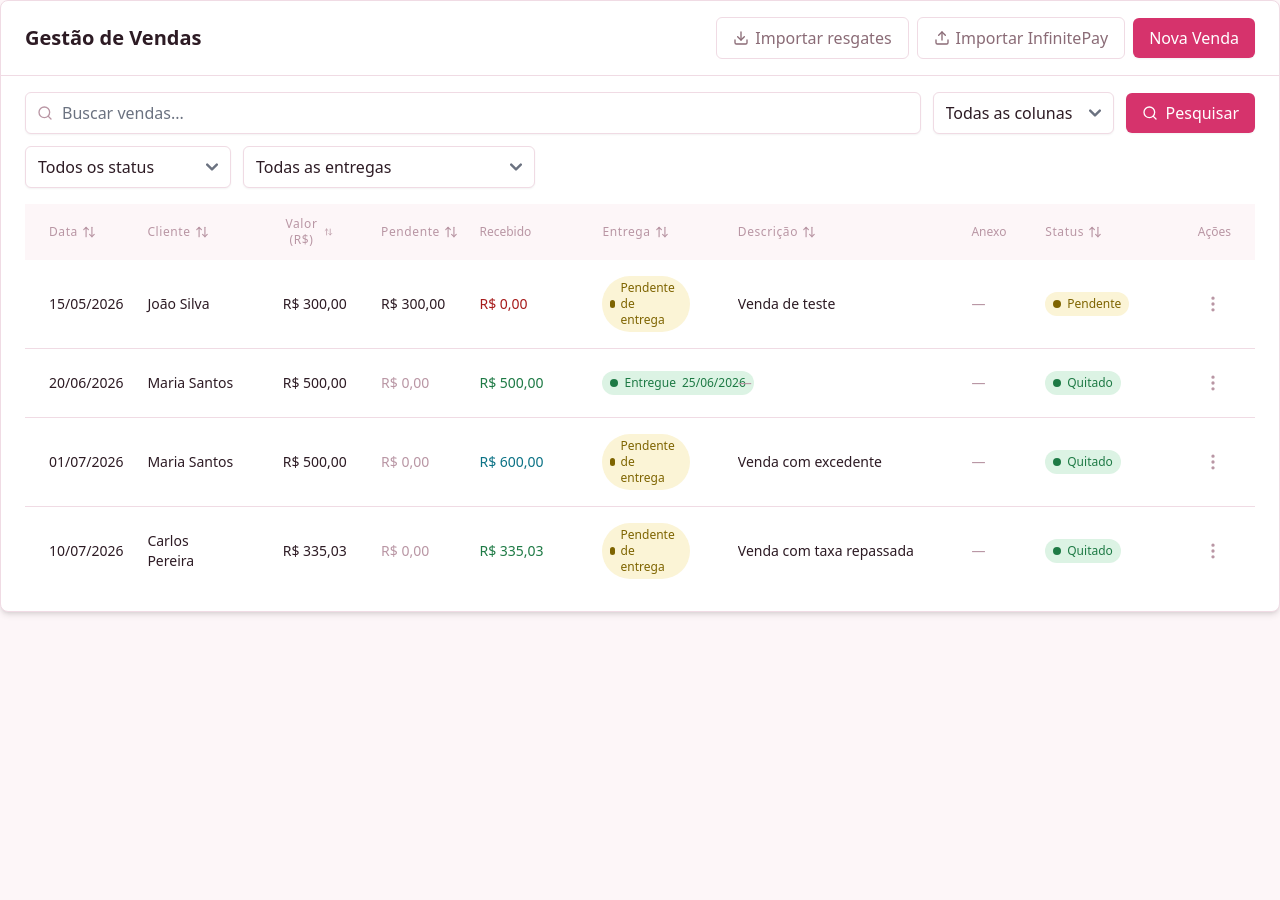
it: SalesPage › Sales List › should show "Desmarcar entrega" for delivered sales
Click the button named "Ações da venda" in the row of "20/06/2026" at (1213, 383), box [1195,365,1231,401]
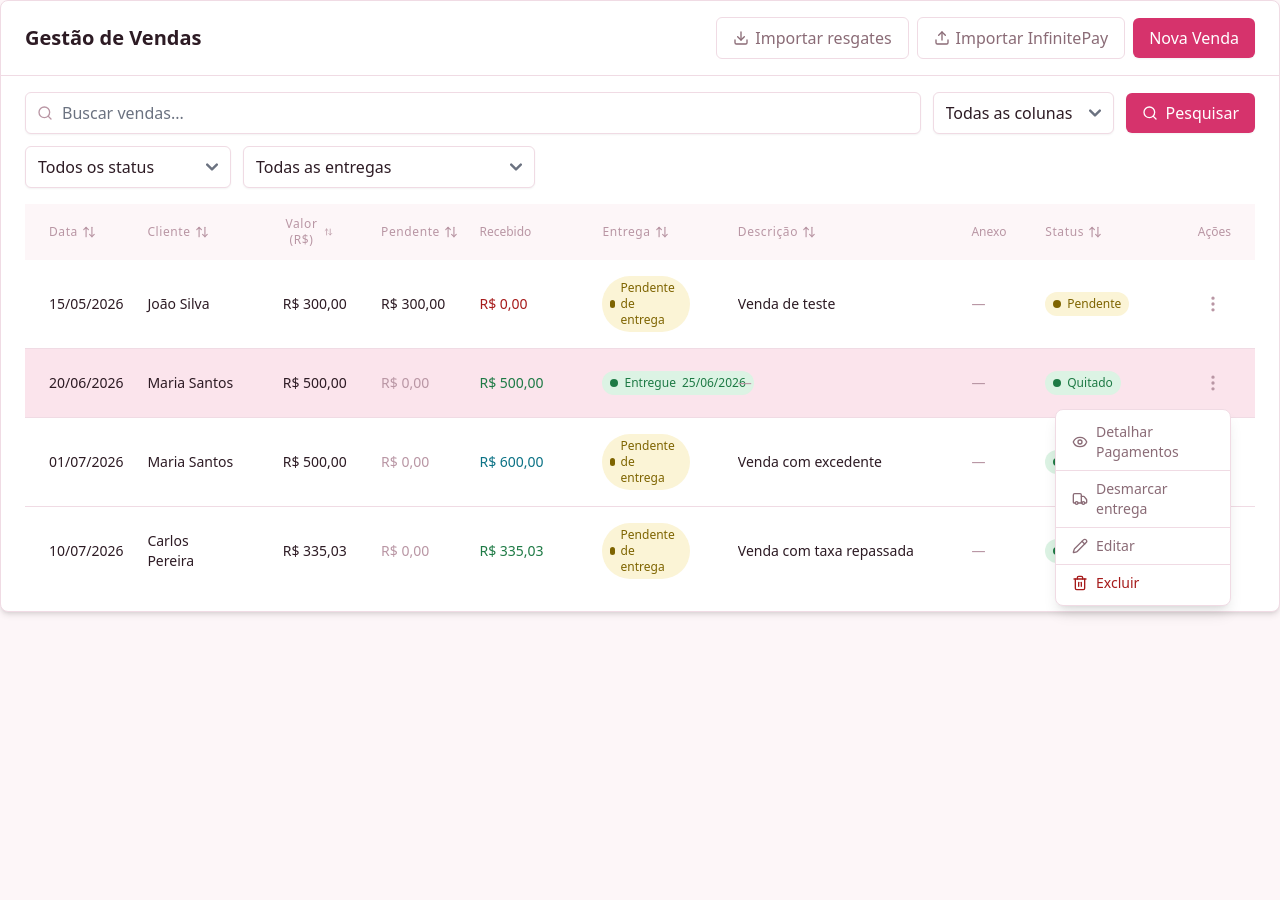
Check: the menu item with test id "sale-actions-2-item-Desmarcar-entrega" is shown, box [1056,470,1230,527]
